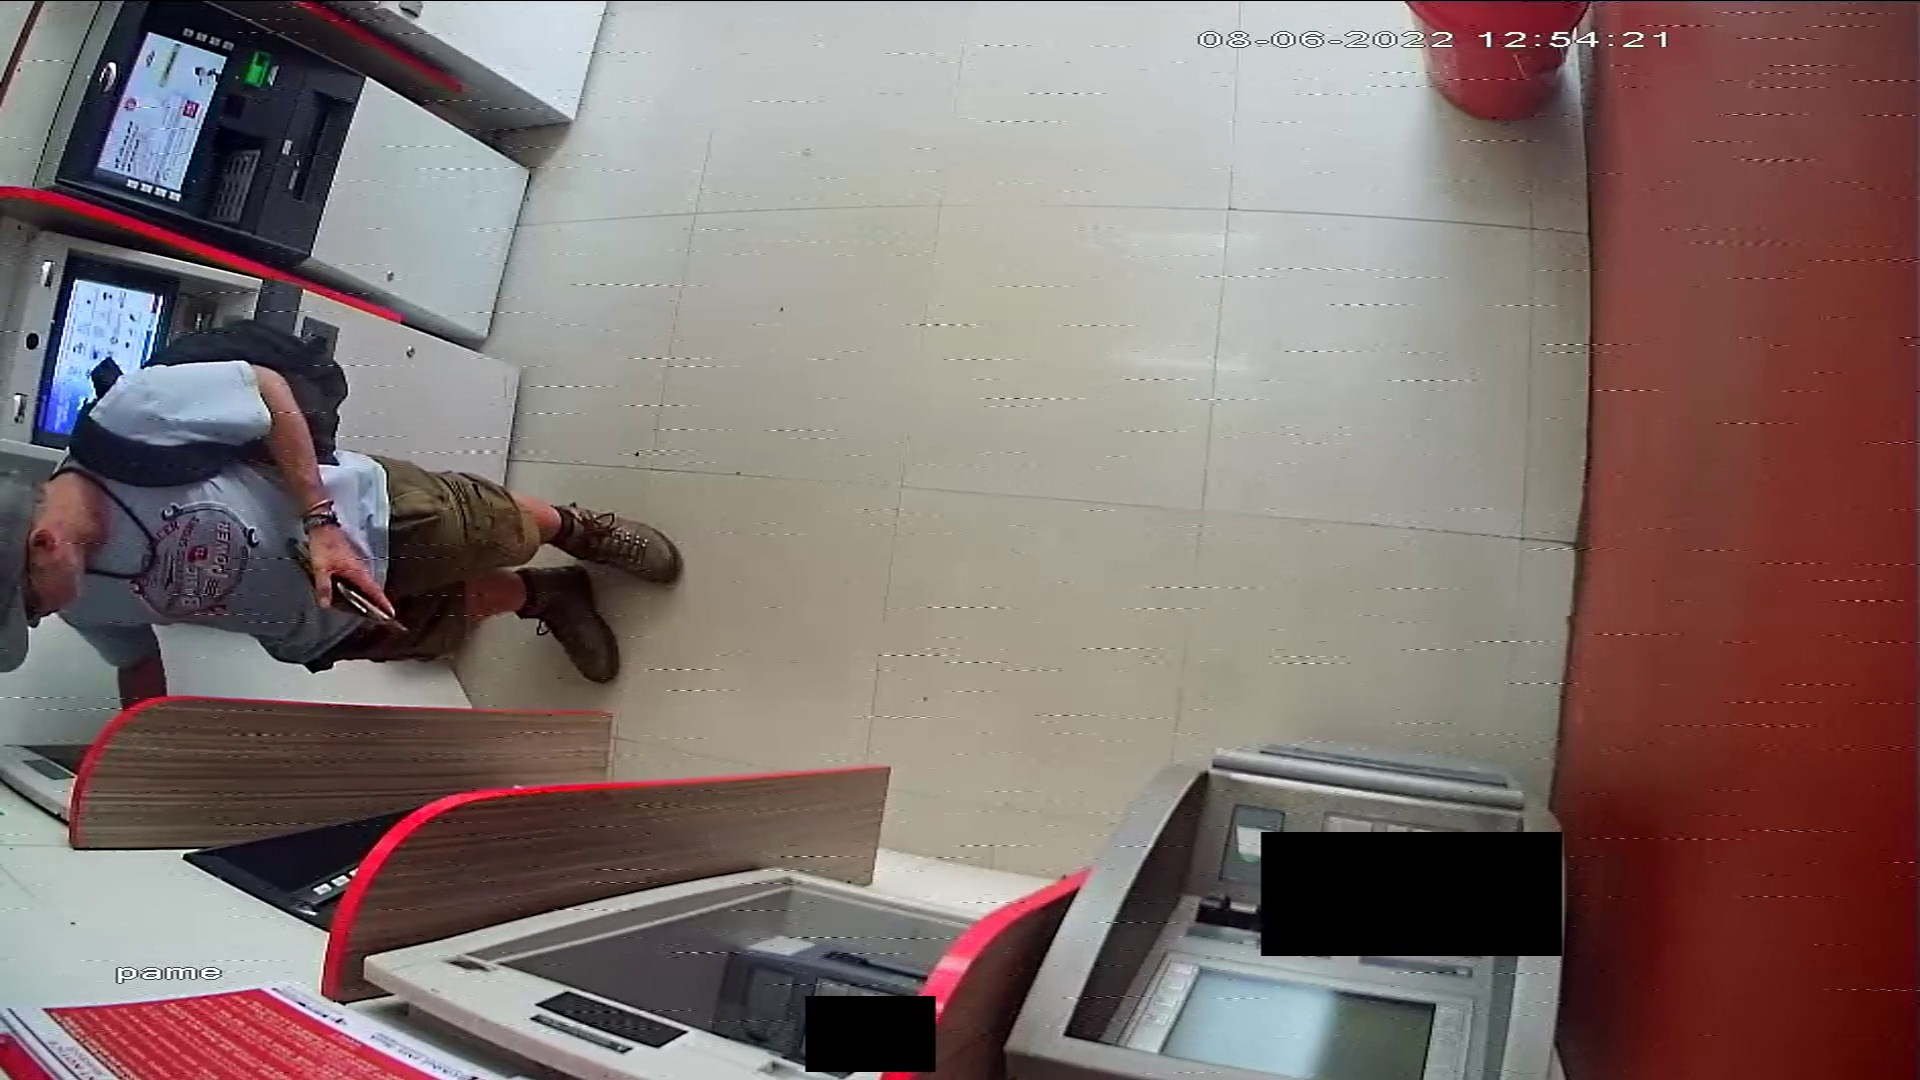person: (1, 355, 686, 694)
